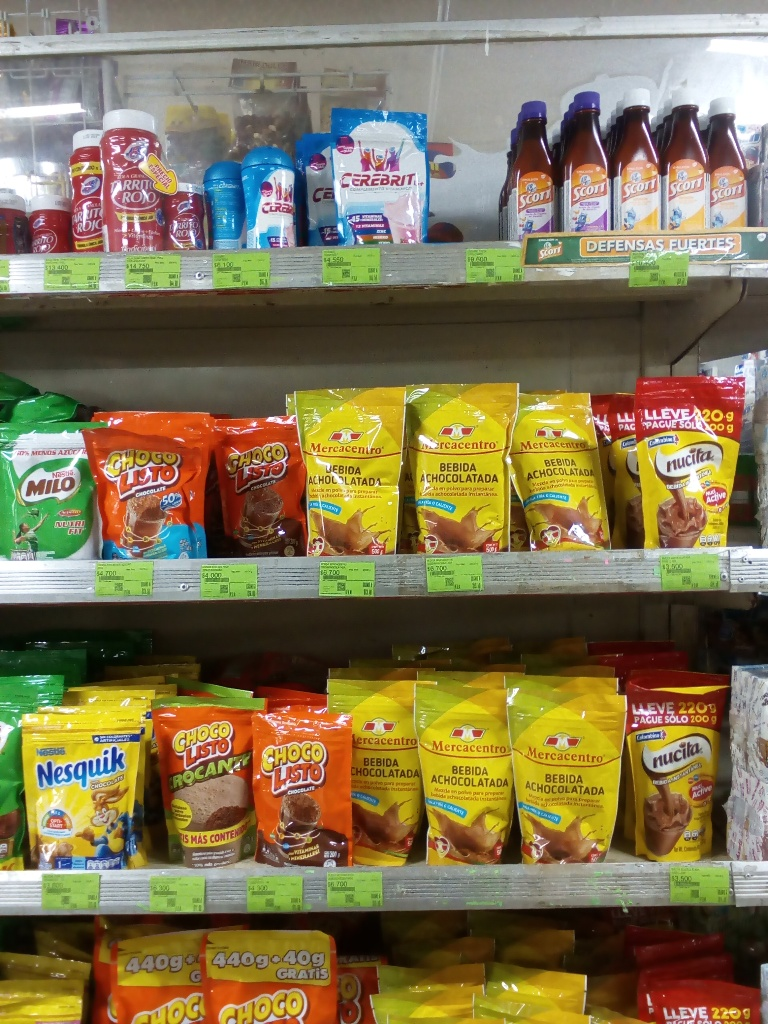COL0170103DYP20000: (213, 408, 312, 560)
COL0170104DYP20000: (90, 410, 215, 561)
COL0170205DYP20000: (0, 422, 97, 559)
COL0170303DYP20000: (28, 695, 147, 877)
